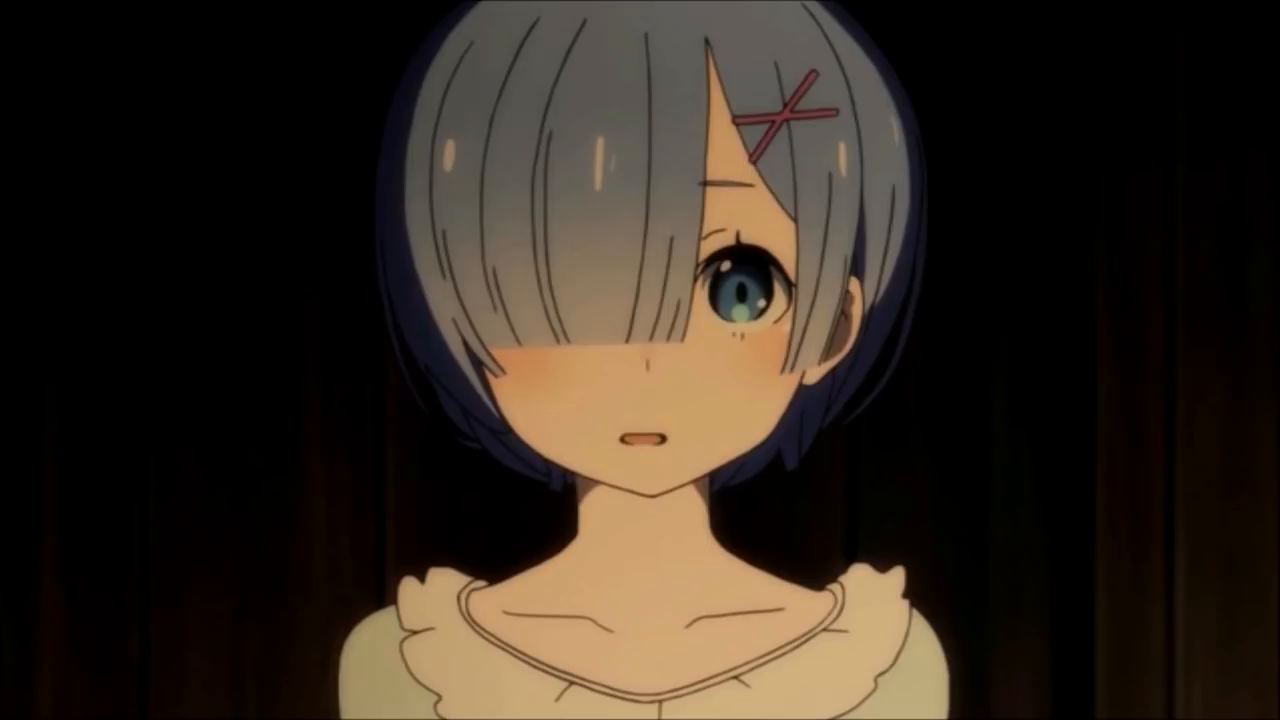REM: (378, 1, 914, 495)
